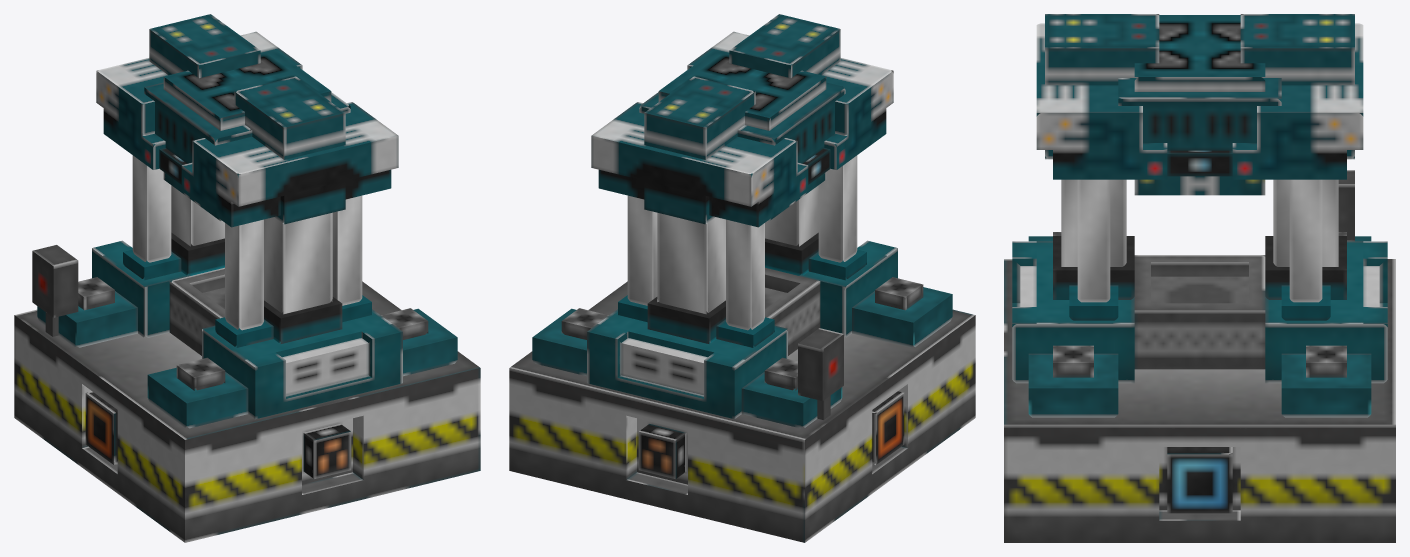
File: forging_press.obj
3 renders of one model, left to right at view 1: azimuth 30°, elevation 25°; view 2: azimuth 150°, elevation 25°; view 3: azimuth 270°, elevation 25°, orthographic. The views are drawn at different scales.
Parts seen in each view (by area): view 1: cube.side_cube.112, cube.base_cube.059, cube.top_cube.104, redstone; view 2: cube.side_cube.112, cube.base_cube.059, cube.top_cube.104, redstone; view 3: cube.side_cube.112, cube.base_cube.059, cube.top_cube.104, redstone.
Part boxes in pixels (x1,y1,x2,y2): cube.side_cube.112: (37,14,457,428); cube.base_cube.059: (14,267,480,542); cube.top_cube.104: (144,49,350,220); redstone: (32,245,78,336); cube.side_cube.112: (532,14,952,428); cube.base_cube.059: (509,267,975,542); cube.top_cube.104: (639,49,845,220); redstone: (798,328,843,419); cube.side_cube.112: (1012,14,1387,417); cube.base_cube.059: (1004,255,1395,542); cube.top_cube.104: (1118,15,1281,195); redstone: (1338,170,1354,241).
Bounding box in the file's own units: 3 × 3.62 × 3.
